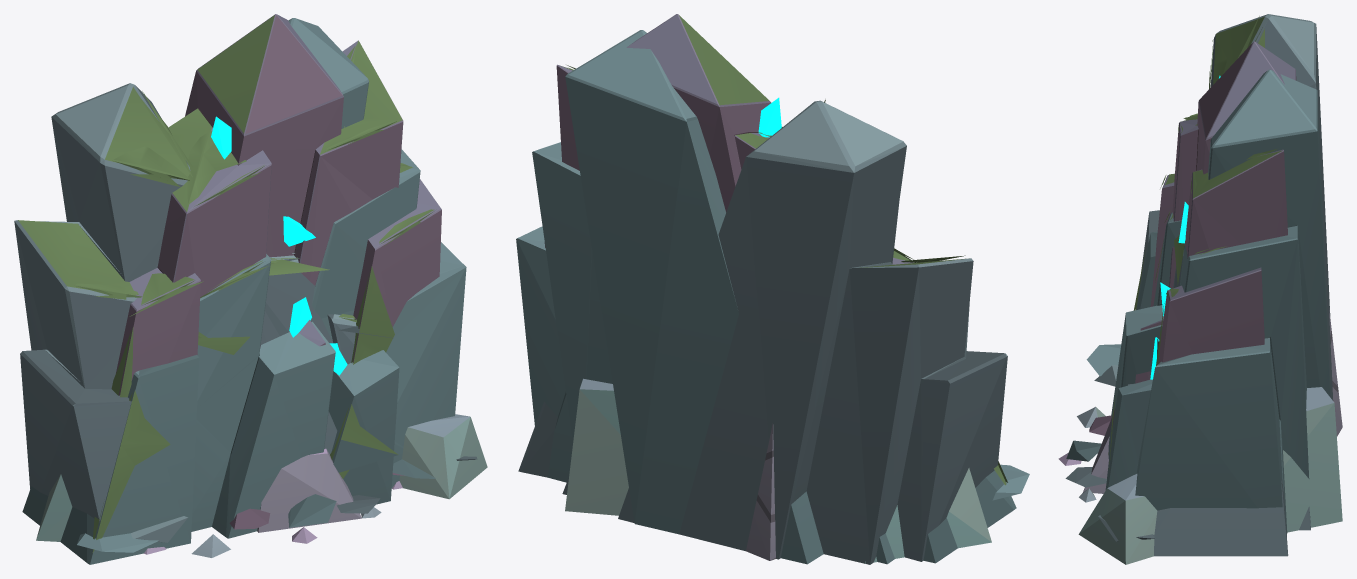
File: cave_boulders.glb
3 views of the same model, side by side, from view 1: azimuth 30°, elevation 25°; view 2: azimuth 150°, elevation 25°; view 3: azimuth 270°, elevation 25° (orthographic). The views are drawn at different scales.
Parts seen in each view (by area): view 1: boulder_a, boulder_b, boulder_c, boulder_d; view 2: boulder_c, boulder_a, boulder_b, boulder_d; view 3: boulder_a, boulder_b, boulder_c, boulder_d.
Part boxes in pixels (<box>): boulder_a: <box>22,18,466,564</box>; boulder_b: <box>111,14,441,529</box>; boulder_c: <box>14,83,477,542</box>; boulder_d: <box>36,414,487,557</box>; boulder_c: <box>518,99,1007,564</box>; boulder_a: <box>516,30,1029,564</box>; boulder_b: <box>544,14,915,264</box>; boulder_d: <box>565,378,991,563</box>; boulder_a: <box>1066,69,1330,535</box>; boulder_b: <box>1089,41,1296,435</box>; boulder_c: <box>1065,14,1333,556</box>; boulder_d: <box>1058,307,1342,564</box>.
Bounding box in the file's own units: 1.88 × 1.92 × 1.1.
